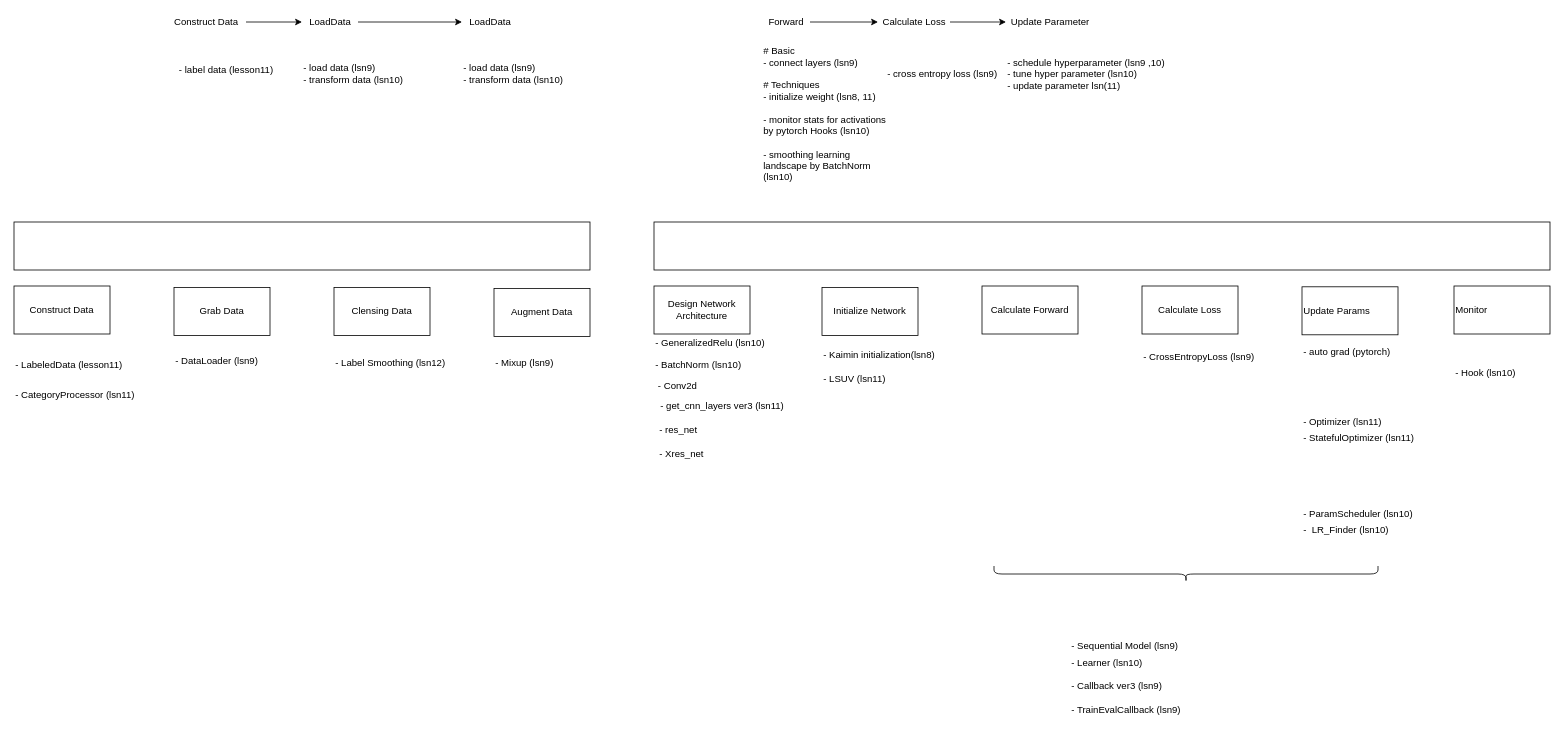
Some shapes in this 1564 by 731 pixel diagram are drawn without their labels. Here are the shapes that lost their labels. From the top down, the centre of each, then its label:
point (301, 245): Data
point (1101, 245): Network
point (1185, 573): Code Refactoring
